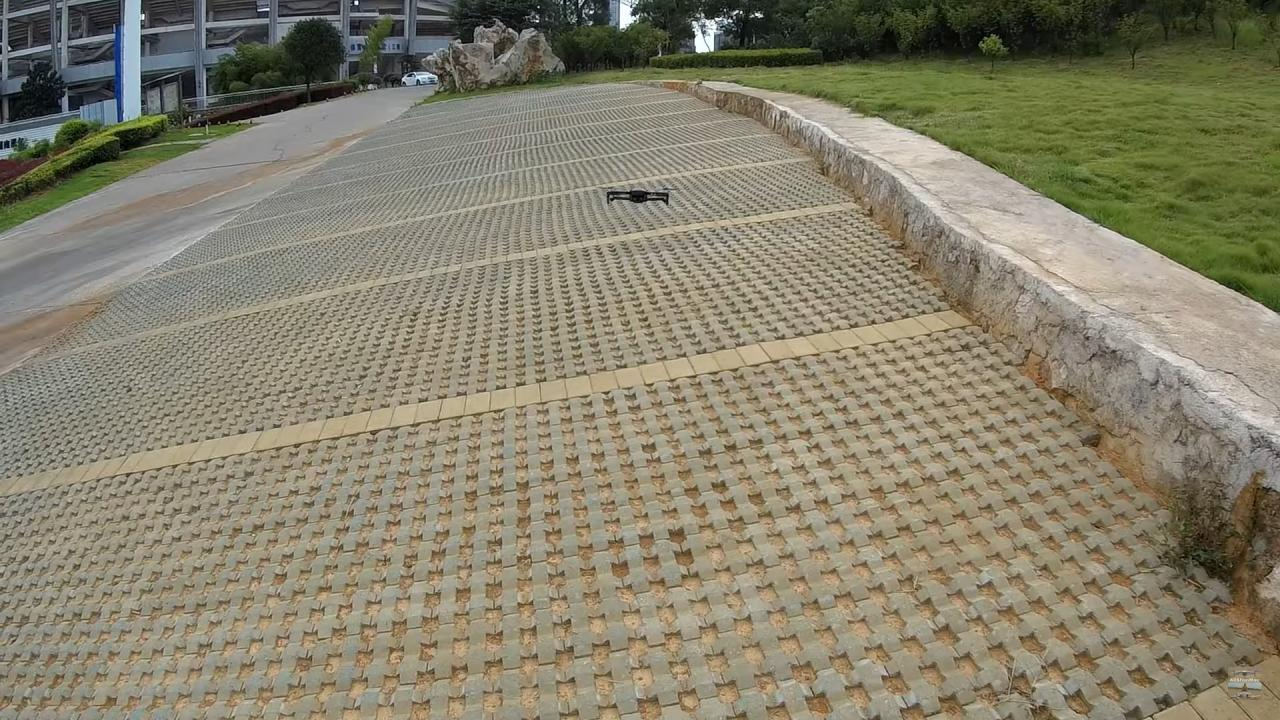Drone: (592, 173, 684, 217)
